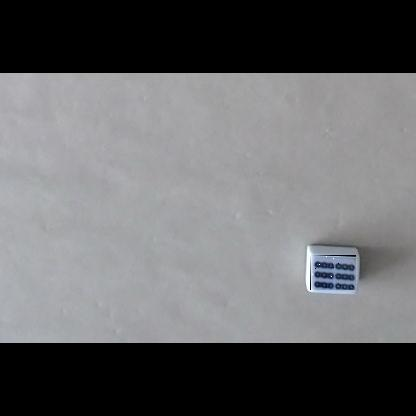6s: (310, 255, 356, 290)
